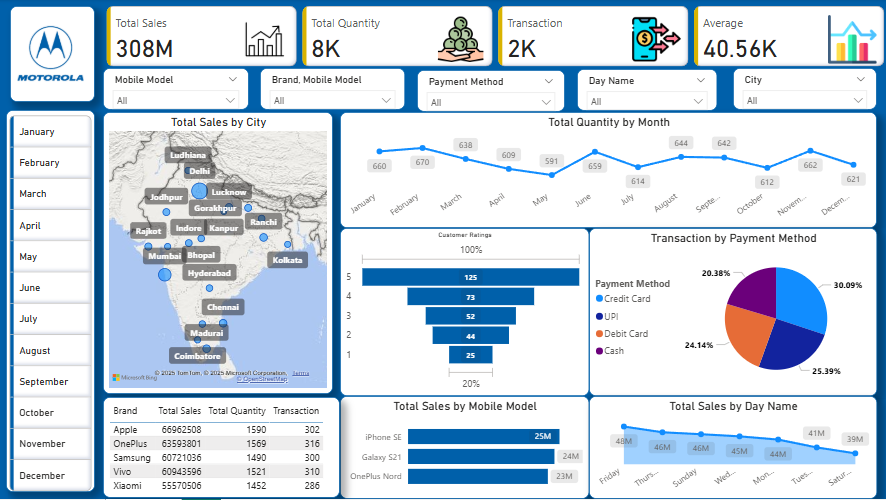

Layout of this report page (visuals, bound fields, positions):
{"tool":"powerbi","page":{"name":"Page 1","canvas":[1280,720],"ordinal":0},"visuals":[{"type":"shape","box":[15.8,10.1,122.4,138.2],"z":0},{"type":"image","box":[584.6,190.1,109.4,129.6],"z":1000},{"type":"shape","box":[10.1,159.8,128.2,550.1],"z":1001},{"type":"cardVisual","fields":{"Data":["Sales_data30.Total Sales","Sales_data30.Total Quantity","Sales_data30.Transaction","Sales_data30.Average"]},"box":[149.8,10.1,1130.4,92.2],"z":1003},{"type":"map","fields":{"Category":["Sales_data30.City"],"Size":["Sales_data30.Total Sales"]},"box":[149.8,162.7,331.2,406.1],"z":1004},{"type":"lineChart","fields":{"Category":["Sales_data30.Date.Variation.Date Hierarchy.Month","Sales_data30.Date.Variation.Date Hierarchy.Day"],"Y":["Sales_data30.Total Quantity"]},"box":[491,162.7,773.3,167],"z":1005},{"type":"image","box":[18.7,25.9,110.9,105.1],"z":1006},{"type":"clusteredBarChart","fields":{"Category":["Sales_data30.Mobile Model"],"Y":["Sales_data30.Total Sales"]},"box":[491,571.7,358.6,148.3],"z":1007},{"type":"pieChart","fields":{"Category":["Sales_data30.Payment Method"],"Y":["Sales_data30.Transaction"]},"box":[849.6,329.8,414.7,241.9],"z":1008},{"type":"funnel","title":"Customer Ratings","fields":{"Category":["Sales_data30.Customer Ratings"],"Y":["CountNonNull(Sales_data30.Customer Ratings)"]},"box":[491,329.8,358.6,241.9],"z":1009},{"type":"areaChart","fields":{"Category":["Sales_data30.Day Name"],"Y":["Sales_data30.Total Sales"]},"box":[849.6,571.7,414.7,148.3],"z":1010},{"type":"tableEx","fields":{"Values":["Sales_data30.Brand","Sales_data30.Total Sales","Sales_data30.Total Quantity","Sales_data30.Transaction"]},"box":[149.8,573.1,341.3,145.4],"z":1011},{"type":"slicer","fields":{"Values":["Sales_data30.Mobile Model"]},"box":[149.8,99.4,210.2,60.5],"z":1012},{"type":"slicer","fields":{"Values":["Sales_data30.Brand","Sales_data30.Mobile Model"]},"box":[375.8,99.4,208.8,60.5],"z":1013},{"type":"slicer","fields":{"Values":["Sales_data30.Payment Method"]},"box":[601.9,102.2,213.1,60.5],"z":1014},{"type":"slicer","fields":{"Values":["Sales_data30.Day Name"]},"box":[832.3,100.8,201.6,60.5],"z":1015},{"type":"slicer","fields":{"Values":["Sales_data30.City"]},"box":[1057,99.4,207.4,60.5],"z":1016},{"type":"advancedSlicerVisual","fields":{"Values":["Sales_data30.Date.Variation.Date Hierarchy.Month"]},"box":[10.1,162.7,128.2,555.8],"z":1017}]}

Visuals, with their boxes in screenshot pixels (x1, y1, x2, y2), scaled from the page's 1280x720 canvas onto the 886x500 screenshot:
shape: 11, 7, 96, 103
image: 405, 132, 480, 222
shape: 7, 111, 96, 493
cardVisual - Sales_data30.Total Sales x Sales_data30.Total Quantity: 104, 7, 885, 71
map - Sales_data30.City x Sales_data30.Total Sales: 104, 113, 333, 395
lineChart - Sales_data30.Date.Variation.Date Hierarchy.Month x Sales_data30.Date.Variation.Date Hierarchy.Day: 340, 113, 875, 229
image: 13, 18, 90, 91
clusteredBarChart - Sales_data30.Mobile Model x Sales_data30.Total Sales: 340, 397, 588, 499
pieChart - Sales_data30.Payment Method x Sales_data30.Transaction: 588, 229, 875, 397
"Customer Ratings" funnel: 340, 229, 588, 397
areaChart - Sales_data30.Day Name x Sales_data30.Total Sales: 588, 397, 875, 499
tableEx - Sales_data30.Brand x Sales_data30.Total Sales: 104, 398, 340, 499
slicer - Sales_data30.Mobile Model: 104, 69, 249, 111
slicer - Sales_data30.Brand x Sales_data30.Mobile Model: 260, 69, 405, 111
slicer - Sales_data30.Payment Method: 417, 71, 564, 113
slicer - Sales_data30.Day Name: 576, 70, 716, 112
slicer - Sales_data30.City: 732, 69, 875, 111
advancedSlicerVisual - Sales_data30.Date.Variation.Date Hierarchy.Month: 7, 113, 96, 499
